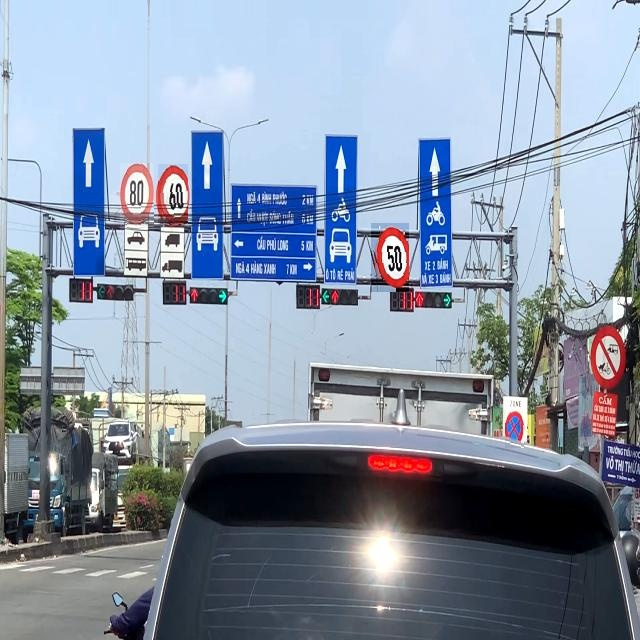bien_cam: (371, 223, 409, 292), (120, 163, 154, 230), (158, 164, 188, 225), (505, 409, 525, 448)
